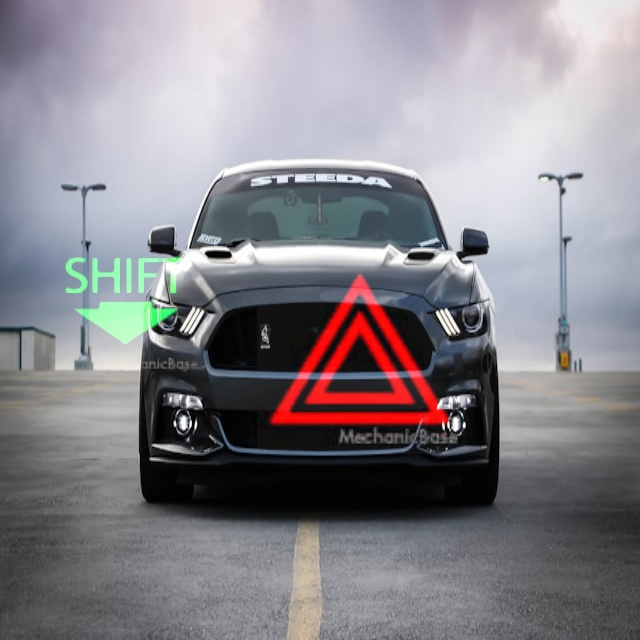symbol: (257, 245, 466, 454), (43, 216, 204, 377)
